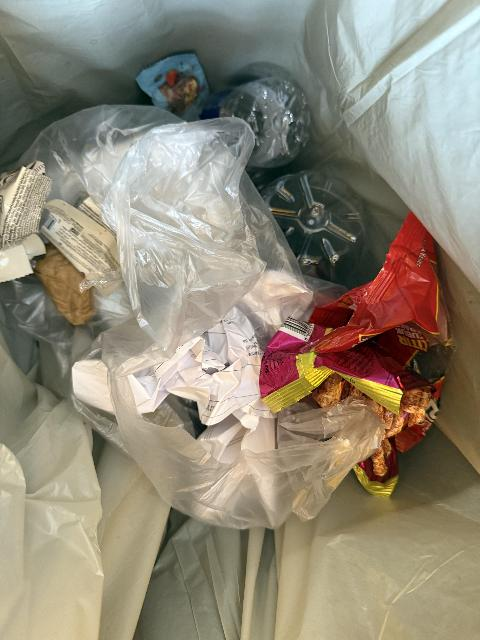Plastik: (118, 136, 238, 319), (314, 244, 446, 356), (263, 335, 399, 407), (258, 180, 366, 267), (41, 205, 120, 281), (0, 173, 55, 281), (220, 89, 303, 157), (392, 380, 434, 445)
